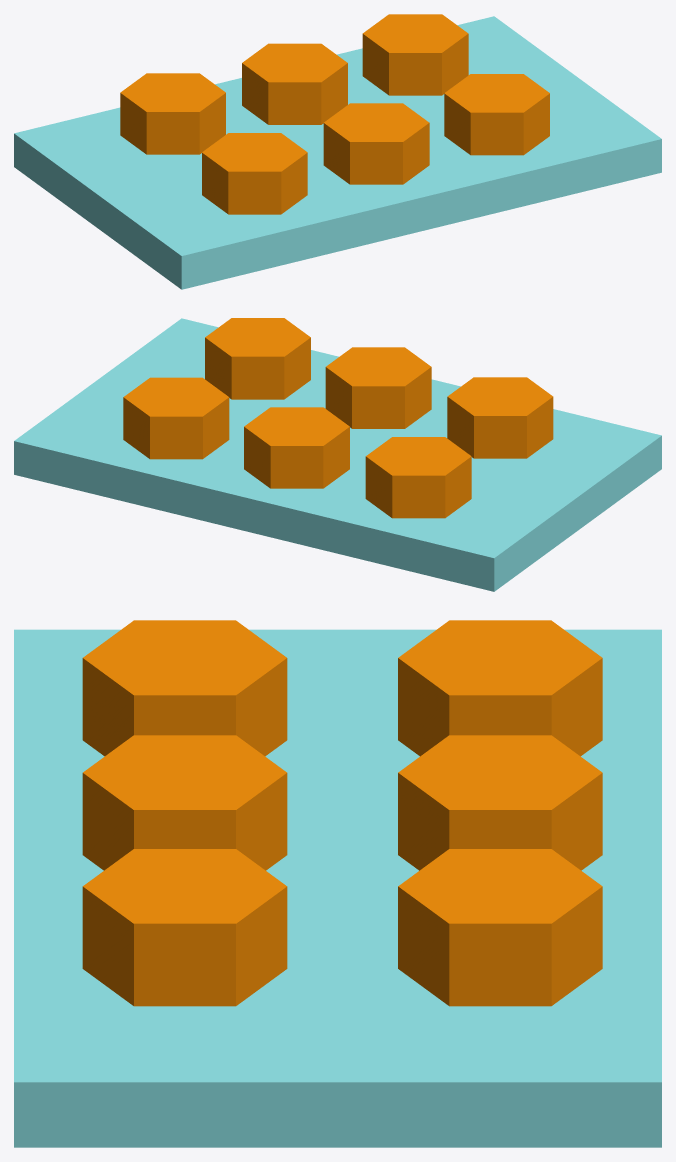
File: Pills Orange.fbx
3 views of the same model, one above another, from view 1: azimuth 30°, elevation 25°; view 2: azimuth 150°, elevation 25°; view 3: azimuth 270°, elevation 25° (orthographic). The views are drawn at different scales.
Visible parts, largest first — view 1: Pills Orange; view 2: Pills Orange; view 3: Pills Orange.
Boxes of the visible parts, x1,y1,x2,y2 form: Pills Orange: [14, 14, 661, 289]; Pills Orange: [14, 318, 661, 591]; Pills Orange: [14, 620, 661, 1147].
Size of the model in its own units: 33.43 by 5.08 by 20.22.
